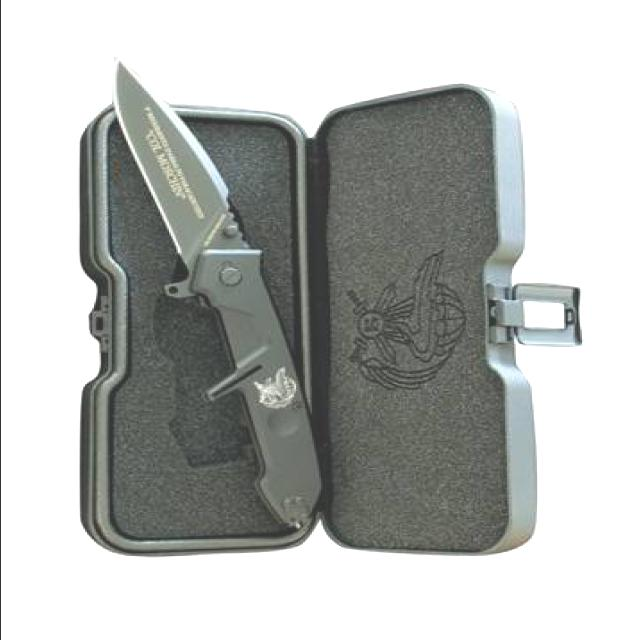knife: (108, 45, 266, 308)
